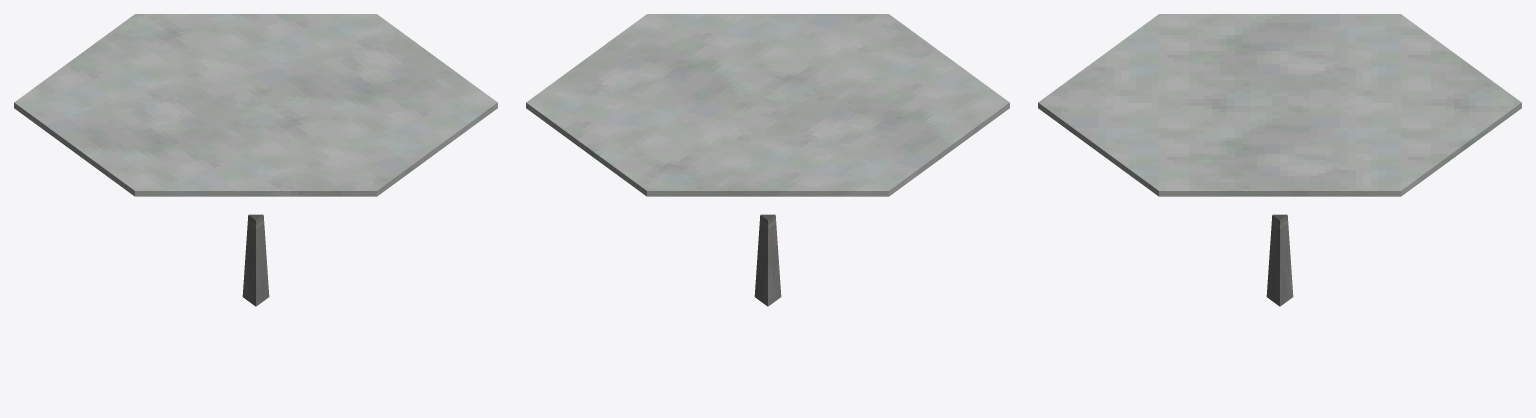
Rendered from frn_all_mdrn_table_s01_l3.fbx.
The picture shows the model from 3 angles, left to right: view 1: azimuth 30°, elevation 25°; view 2: azimuth 150°, elevation 25°; view 3: azimuth 270°, elevation 25°; orthographic projection.
Parts seen in each view (by area): view 1: mesh_node; view 2: mesh_node; view 3: mesh_node.
Boxes of the visible parts, bbox=[...] form: mesh_node: bbox=[14, 14, 497, 306]; mesh_node: bbox=[526, 14, 1009, 306]; mesh_node: bbox=[1038, 14, 1521, 306].
Bounding box in the file's own units: 1.32 × 0.8965 × 1.52.
